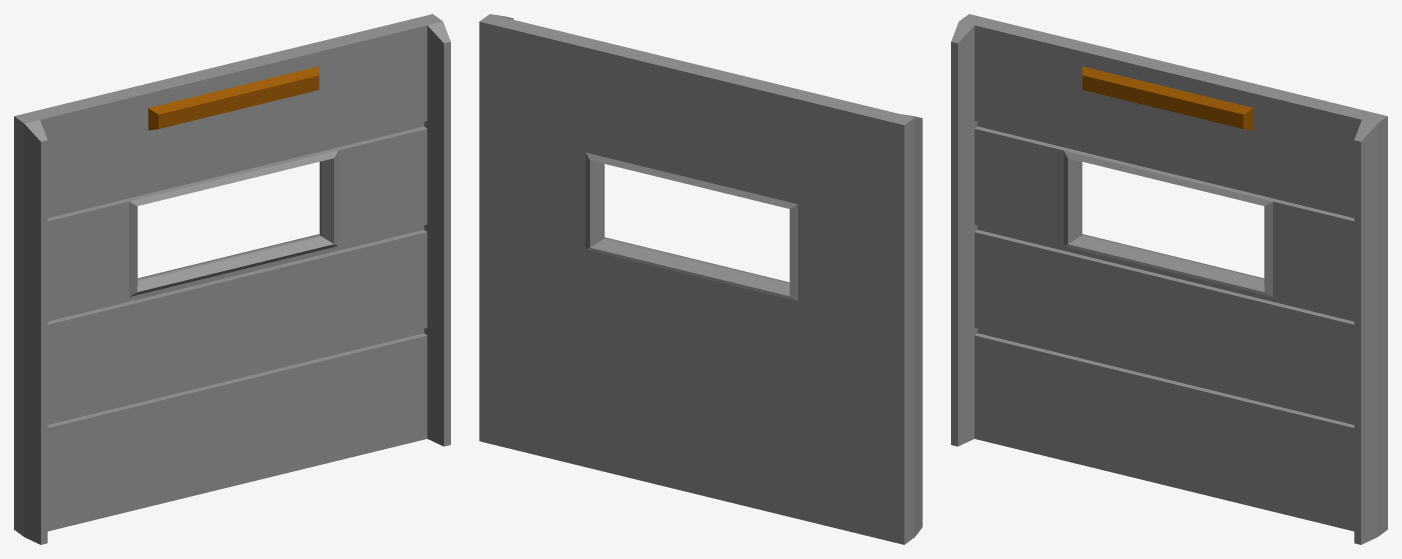
3 renders of one model, left to right at view 1: azimuth 30°, elevation 25°; view 2: azimuth 150°, elevation 25°; view 3: azimuth 330°, elevation 25°, orthographic.
Visible parts, largest first — view 1: Pared 15; view 2: Pared 15; view 3: Pared 15.
Boxes of the visible parts, <box> form: Pared 15: <box>14,14,450,544</box>; Pared 15: <box>479,14,922,544</box>; Pared 15: <box>951,14,1387,544</box>.
Size of the model in its own units: 183 by 173 by 18.39.
